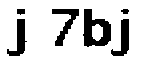7: (46, 4, 79, 52)
b: (79, 6, 113, 49)
j: (2, 5, 29, 60), (114, 5, 137, 60)
